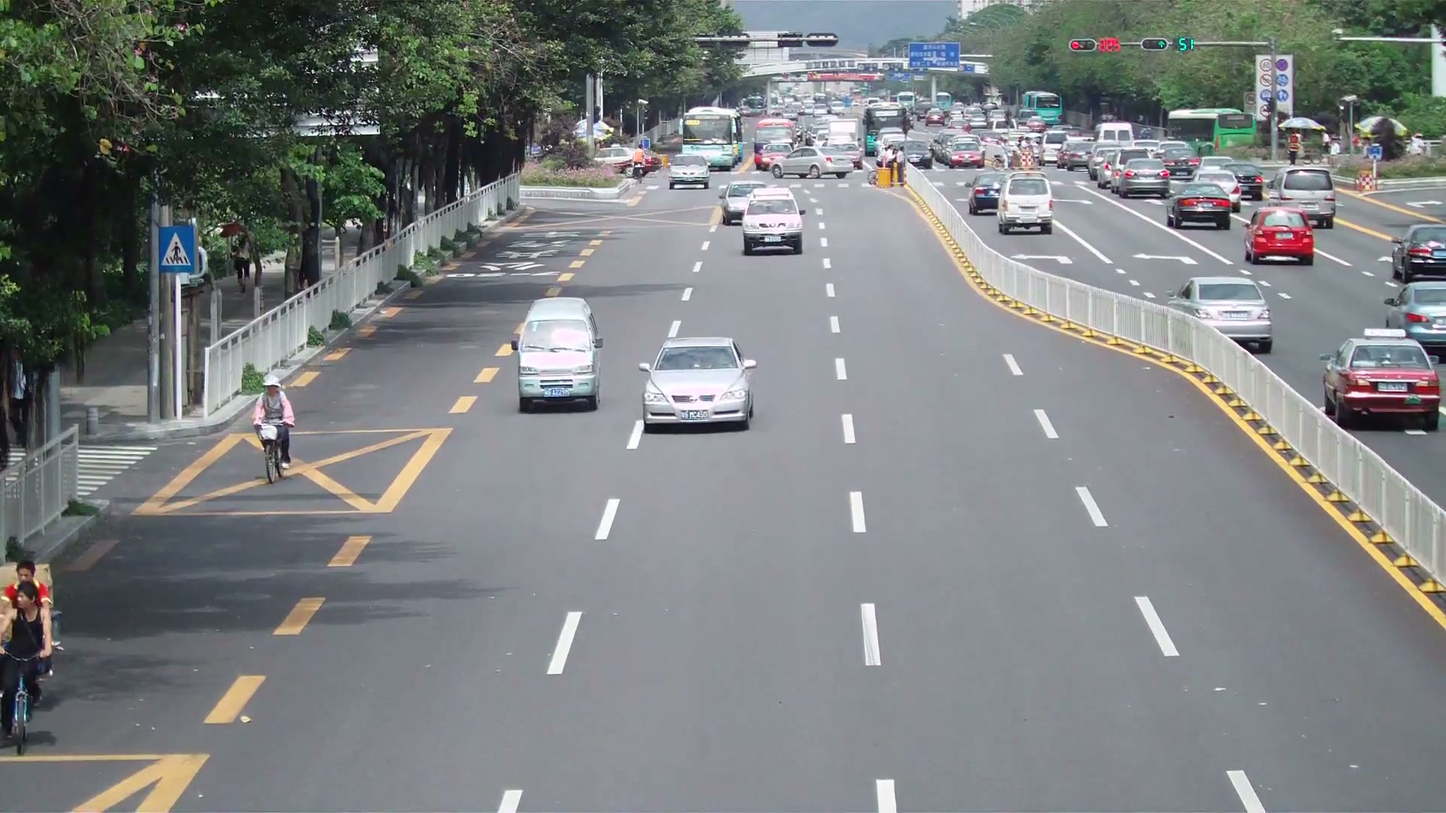bus: (681, 106, 743, 167), (682, 105, 741, 150)
car: (1319, 335, 1441, 433), (639, 334, 756, 432), (514, 297, 603, 412), (1169, 274, 1274, 354), (1384, 280, 1445, 355), (740, 188, 805, 255), (1243, 207, 1315, 266), (1278, 164, 1338, 228), (995, 174, 1055, 235), (1388, 224, 1445, 283), (1169, 180, 1232, 229), (1112, 155, 1171, 198), (719, 179, 759, 225), (969, 176, 1005, 216), (669, 155, 711, 189)
motorcycle: (253, 419, 296, 481)
pedestrian: (0, 573, 51, 737), (251, 378, 296, 473)
